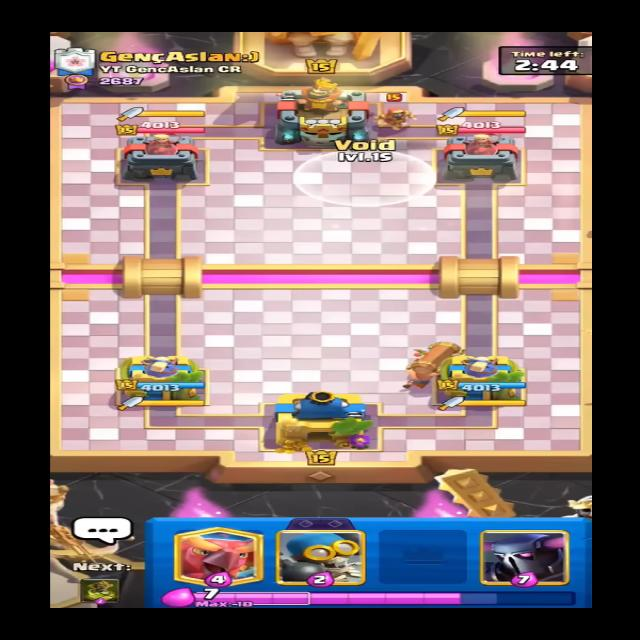wizard: (373, 91, 423, 129)
